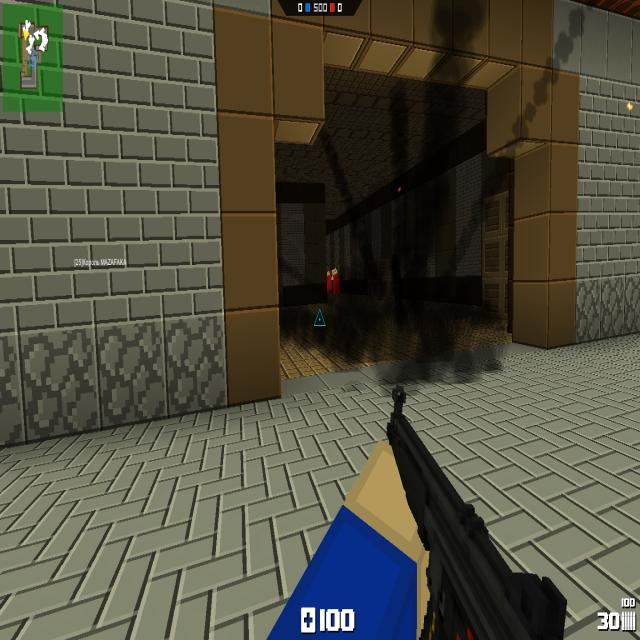enemy: (331, 268, 340, 294), (326, 270, 332, 291)
